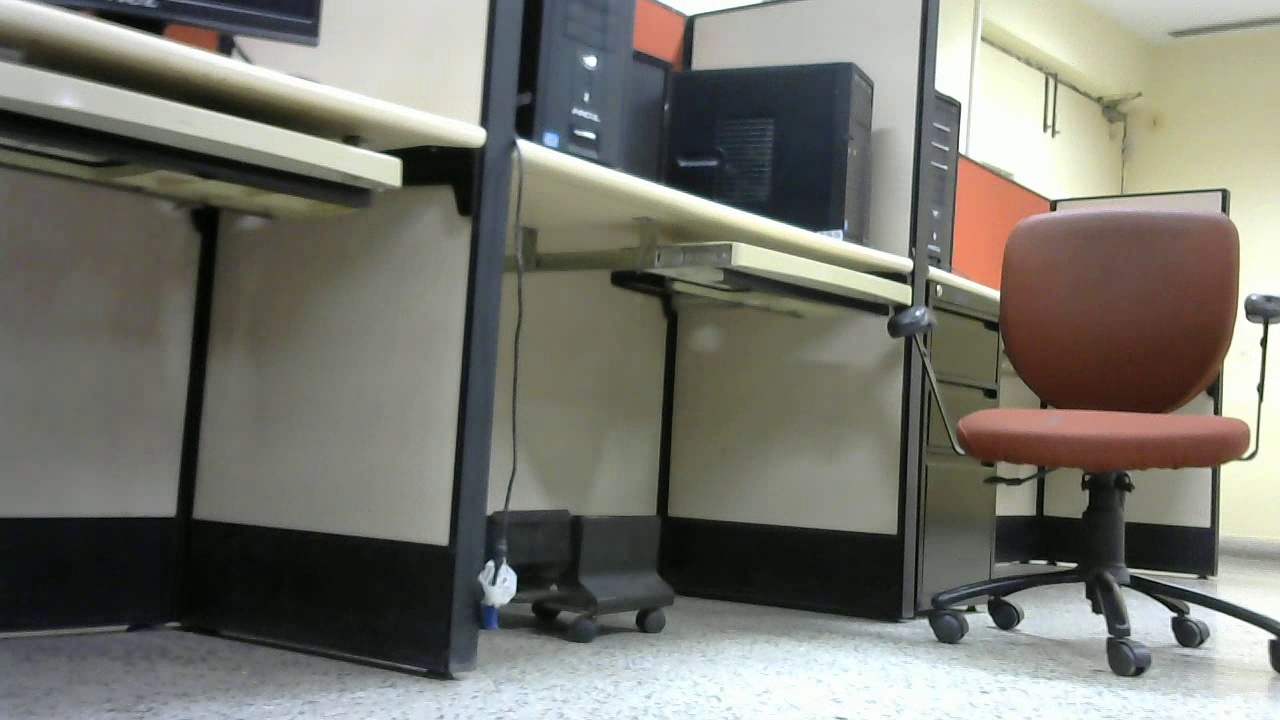chair: (465, 1, 963, 714), (1, 198, 135, 505)
